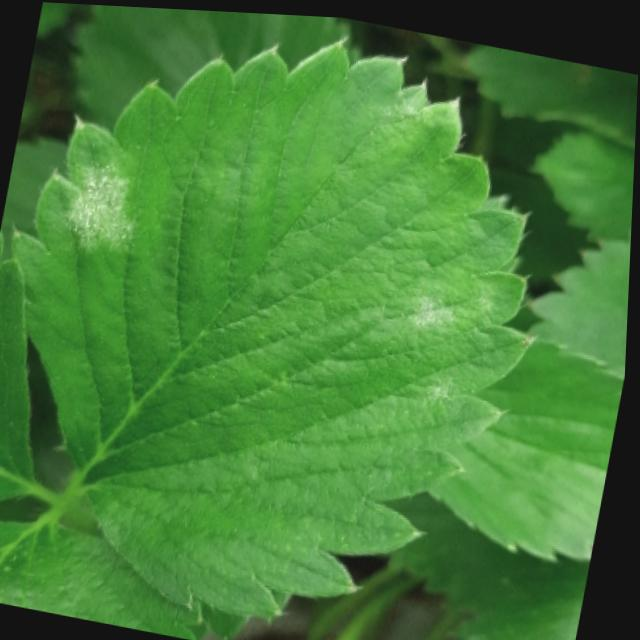Powdery Mildew Leaf: (11, 35, 538, 617)
